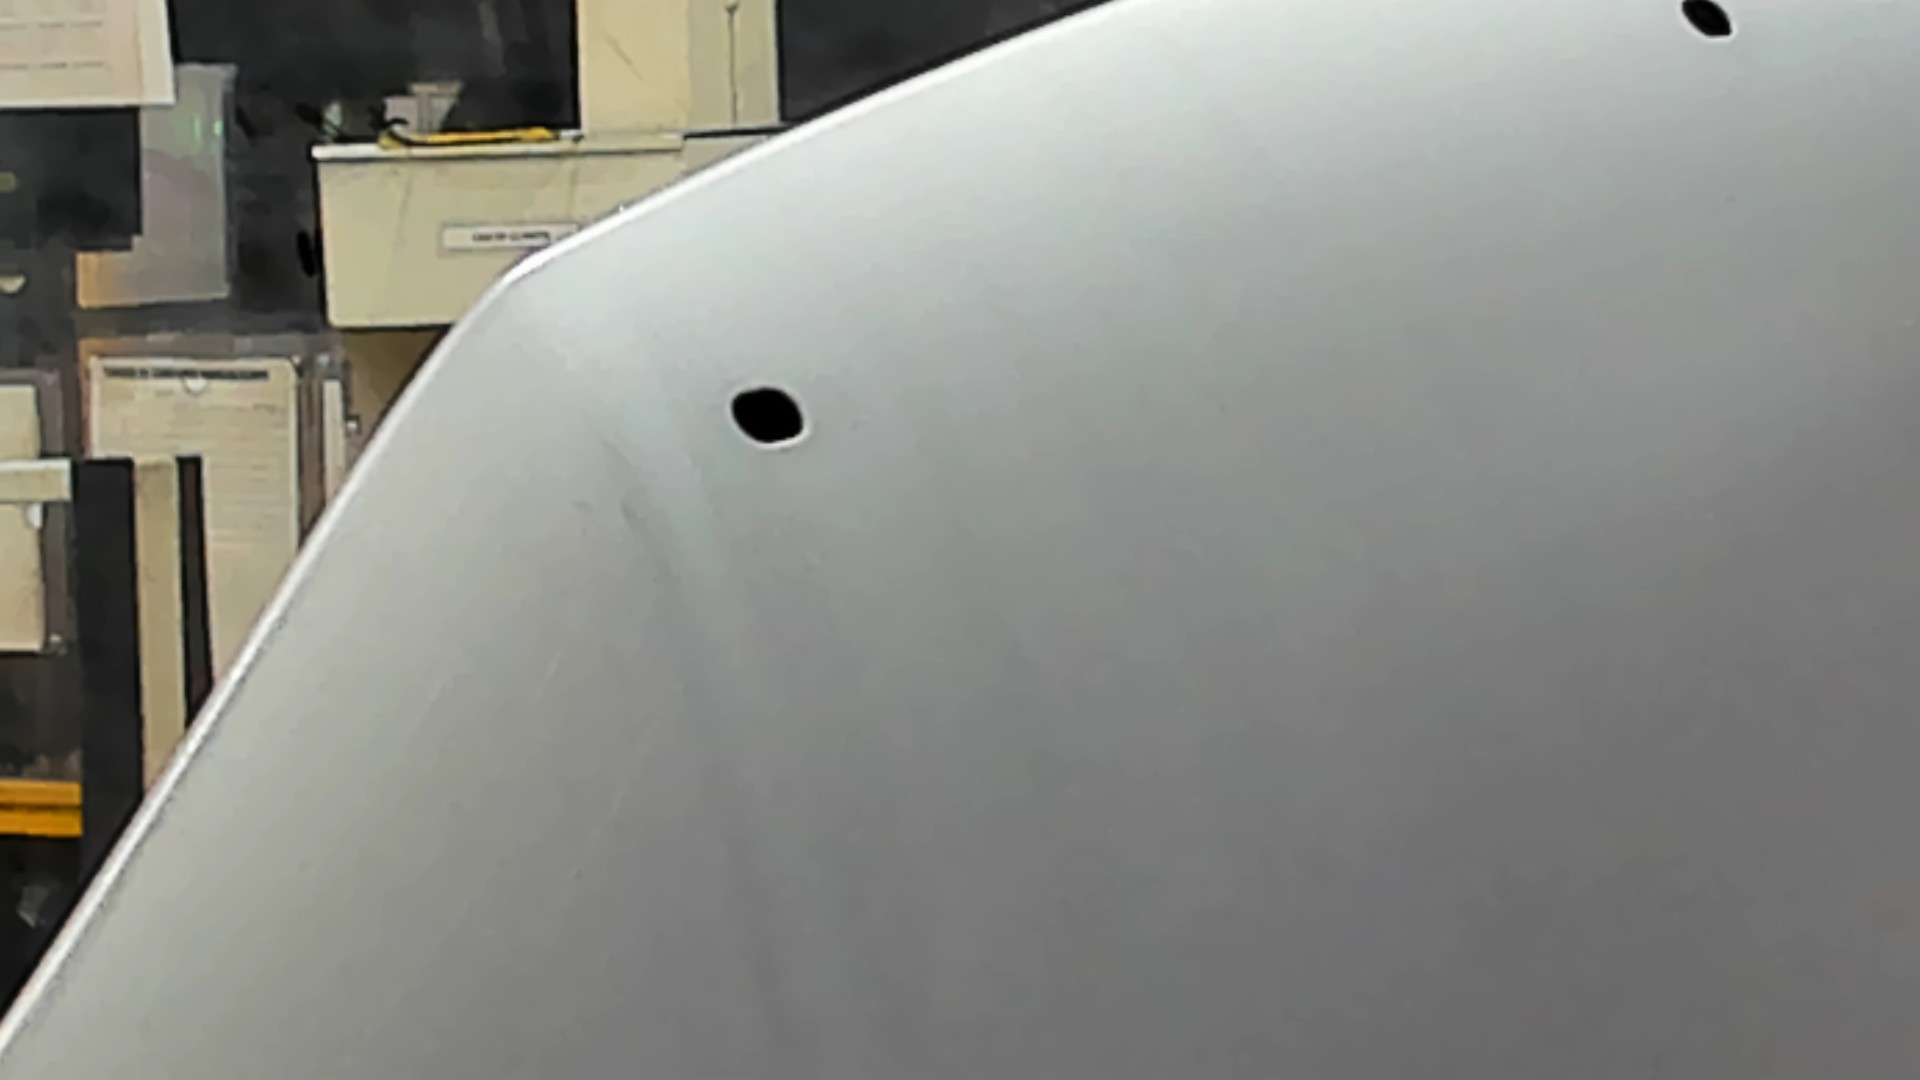Agujero: (727, 382, 811, 451), (1672, 1, 1742, 41)
